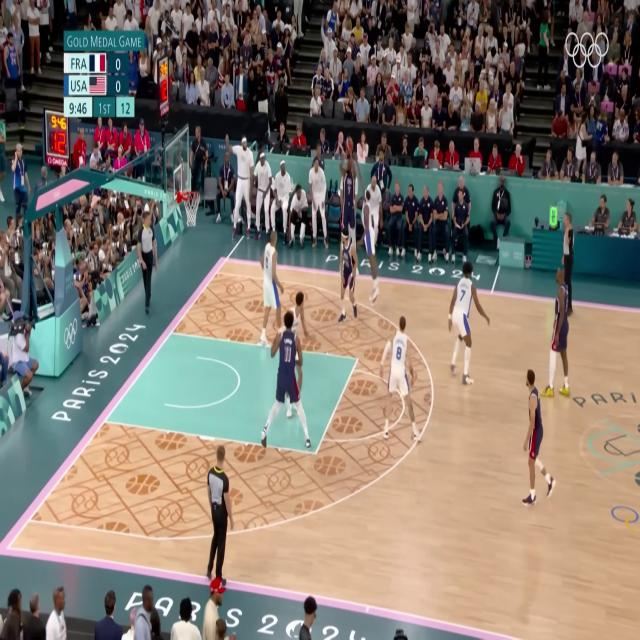ball-handler: (340, 132, 361, 264)
player: (438, 261, 494, 400), (512, 368, 559, 514), (270, 302, 312, 460), (270, 285, 317, 398), (384, 320, 422, 446), (540, 269, 572, 404), (258, 222, 287, 355), (359, 186, 383, 307), (338, 227, 367, 323)
